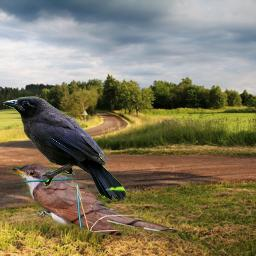Crow: (3, 96, 127, 201)
Cuckoo: (6, 159, 183, 245)
